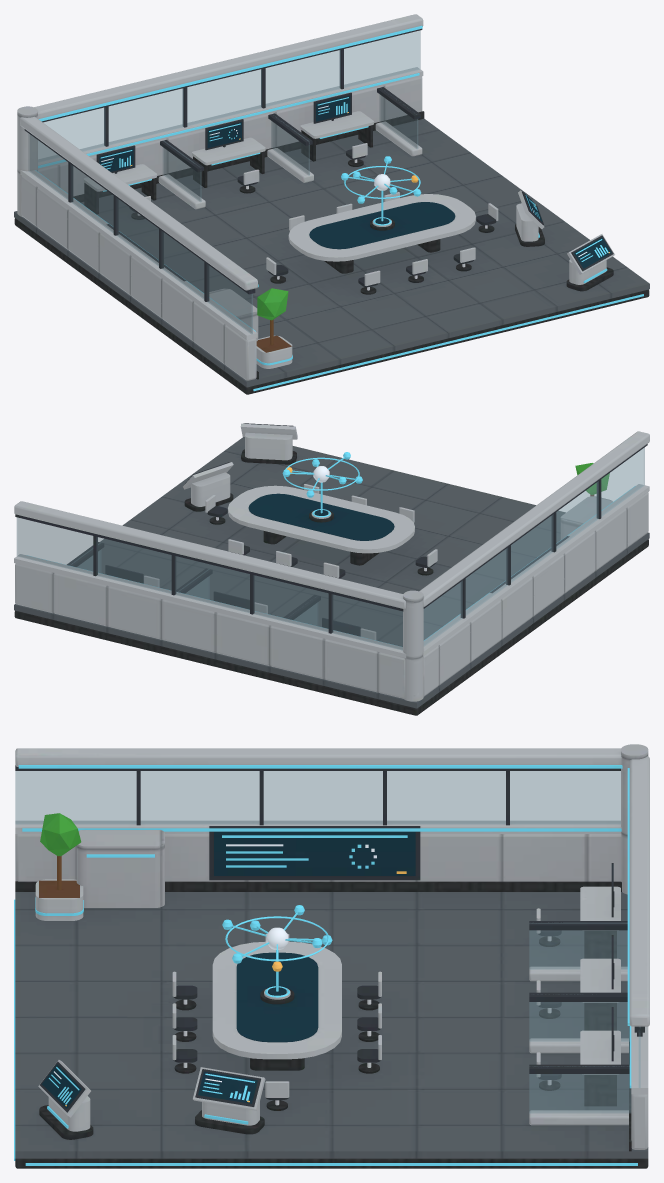
File: enterprise_administration.glb
The picture shows the model from 3 angles, top to bottom: view 1: azimuth 30°, elevation 25°; view 2: azimuth 150°, elevation 25°; view 3: azimuth 270°, elevation 25°; orthographic projection. The views are drawn at different scales.
Parts seen in each view (by area): view 1: te_enterprise_administration, move_sensor; view 2: te_enterprise_administration, move_sensor; view 3: te_enterprise_administration, move_sensor.
Part boxes in pixels (left/top/right/bottom): te_enterprise_administration: left=14, top=14, right=649, bottom=394; move_sensor: left=341, top=156, right=421, bottom=203; te_enterprise_administration: left=14, top=423, right=649, bottom=715; move_sensor: left=282, top=452, right=362, bottom=497; te_enterprise_administration: left=14, top=744, right=649, bottom=1168; move_sensor: left=222, top=905, right=332, bottom=971.
Bounding box in the file's own units: 1.87 × 0.512 × 1.87.
2 materials, 1 textured.
